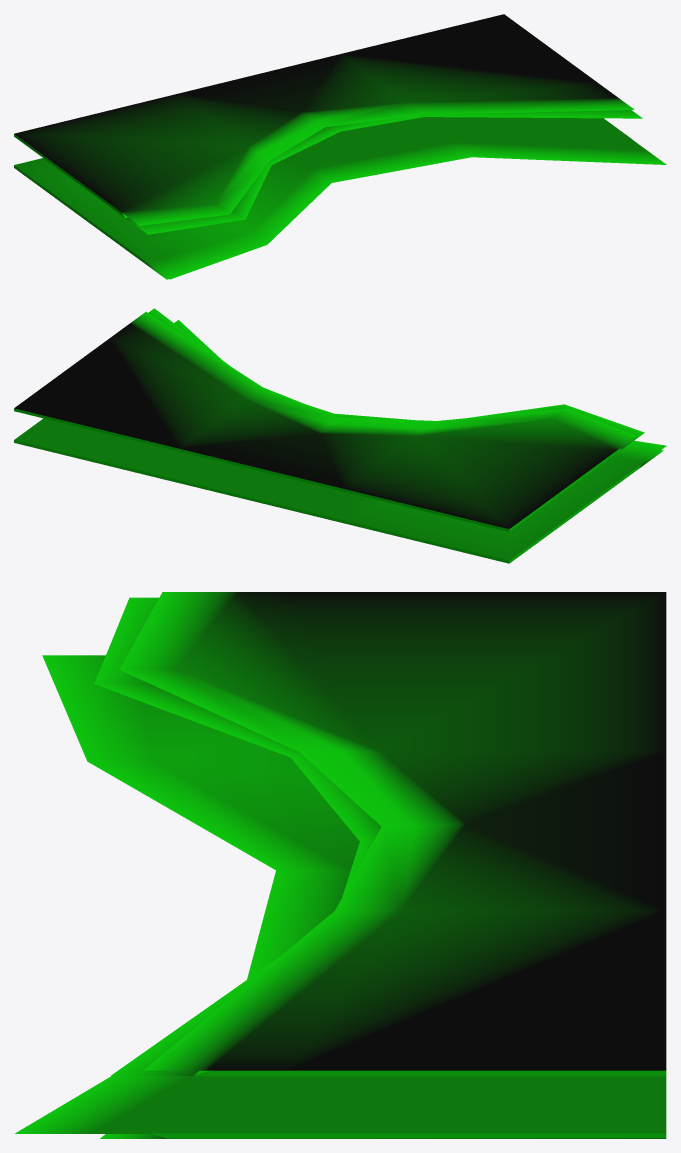
Rendered from DBK_Plywood_Floor_Tile_A.fbx.
3 renders of one model, top to bottom at view 1: azimuth 30°, elevation 25°; view 2: azimuth 150°, elevation 25°; view 3: azimuth 270°, elevation 25°, orthographic. The views are drawn at different scales.
Visible parts, largest first — view 1: DBK_Plywood_Floor_Tile_A; view 2: DBK_Plywood_Floor_Tile_A; view 3: DBK_Plywood_Floor_Tile_A.
Part boxes in pixels (left/top/right/bottom): DBK_Plywood_Floor_Tile_A: left=14, top=14, right=666, bottom=279; DBK_Plywood_Floor_Tile_A: left=14, top=308, right=666, bottom=563; DBK_Plywood_Floor_Tile_A: left=15, top=592, right=666, bottom=1138.
Size of what is drawn, in the model's own units: 300 by 20 by 173.
